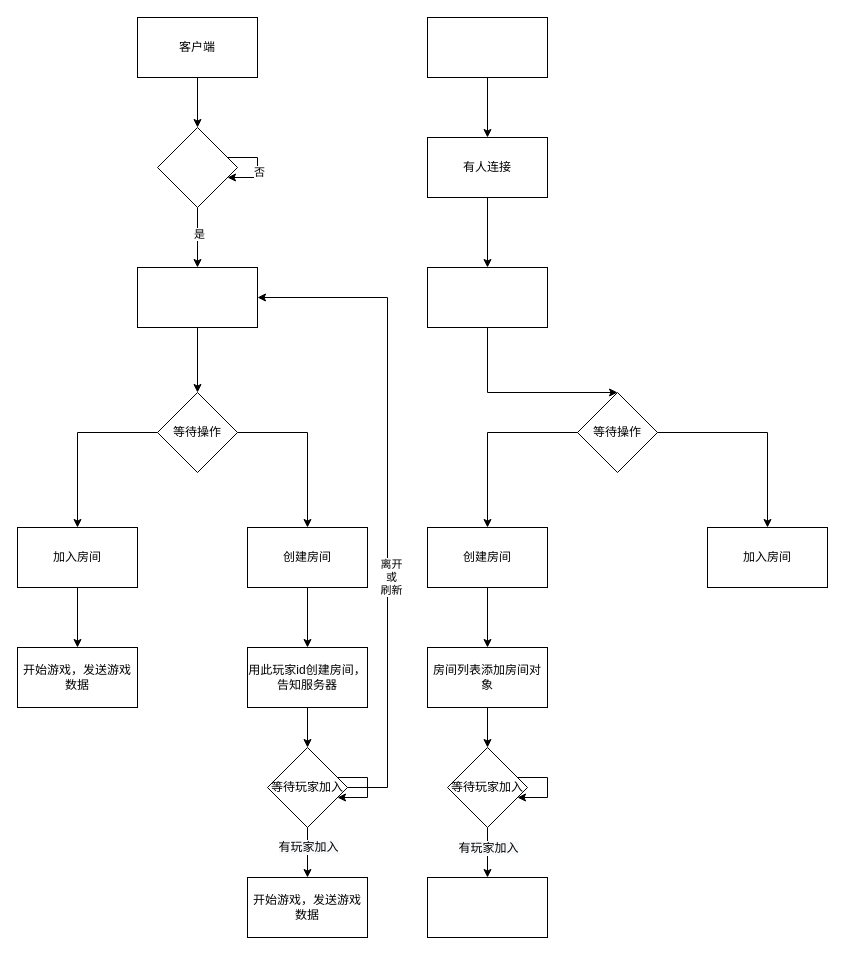
Some shapes in this 845 by 955 pixel diagram are drawn without their labels. Here are the shapes that lost their labels. From the top down, the box of each, then its label:
(426, 16, 548, 78): 服务端
(156, 126, 238, 208): 连接服务器
(136, 266, 258, 328): 获取ID与房间列表
(426, 266, 548, 328): 发送id与房间列表
(426, 876, 548, 938): 创建对局对象
